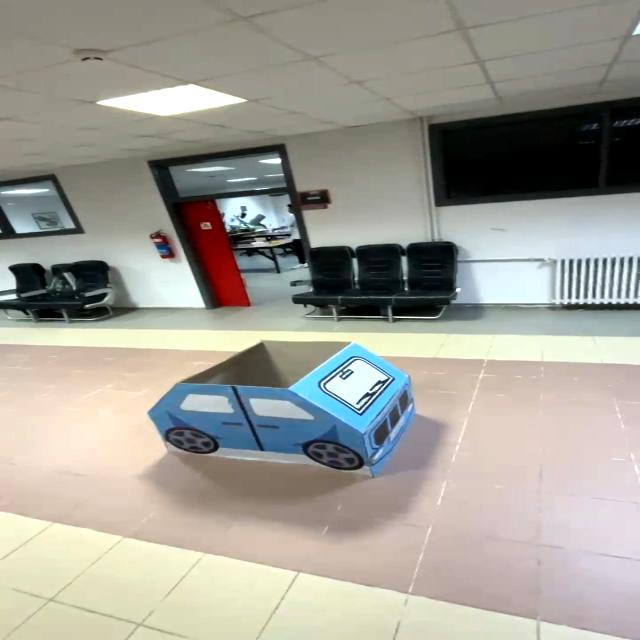blue_car: (118, 323, 430, 502)
